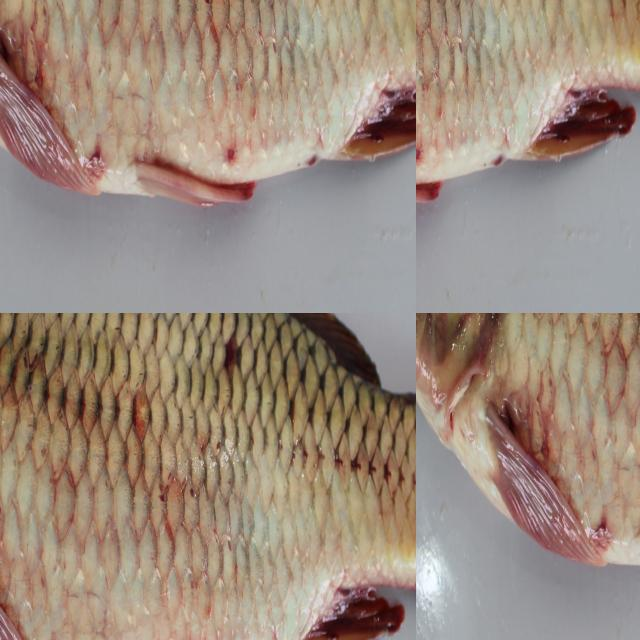fish: (416, 313, 640, 640)
